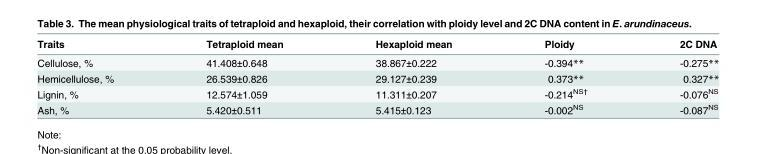table: (36, 37, 718, 115)
table column: (159, 37, 328, 115), (328, 37, 497, 115), (497, 37, 632, 115), (36, 37, 159, 115), (632, 37, 718, 115)
table column header: (36, 37, 718, 52)
table row: (36, 52, 718, 70), (36, 85, 718, 101), (36, 37, 718, 52), (36, 70, 718, 85), (36, 101, 718, 115)
